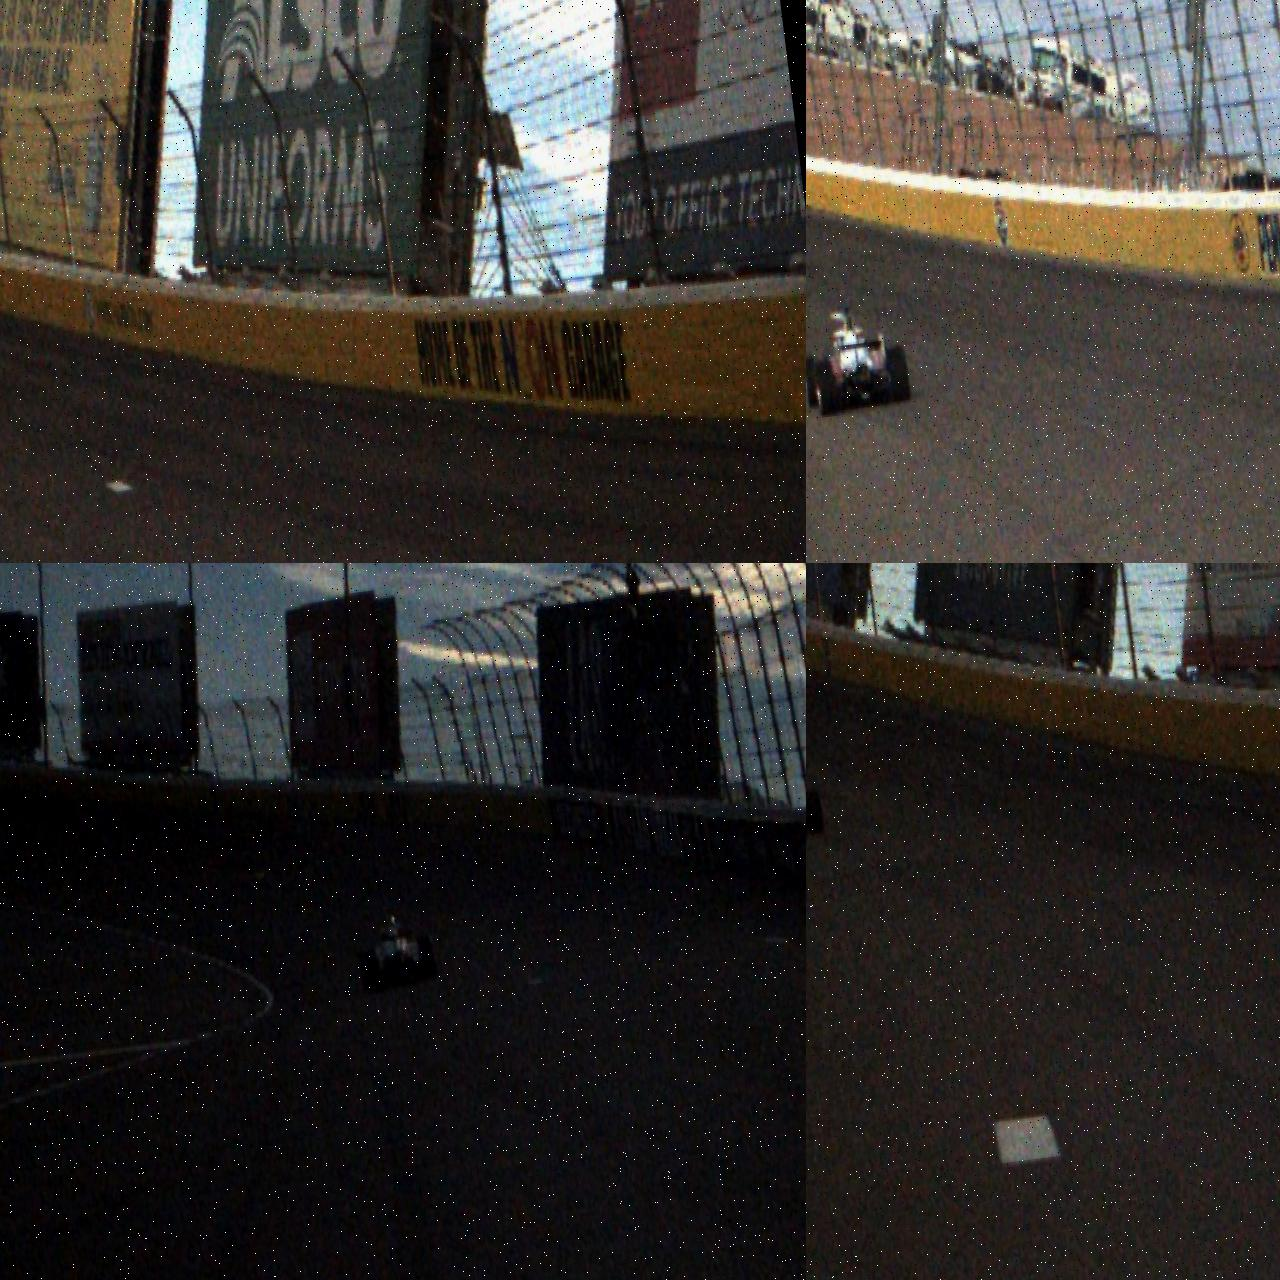AV: (806, 293, 913, 420), (352, 904, 440, 996), (806, 754, 825, 842)
Wheel: (813, 359, 840, 418), (886, 347, 912, 403), (360, 948, 381, 995), (418, 934, 438, 983), (806, 789, 825, 835), (806, 356, 821, 408)
